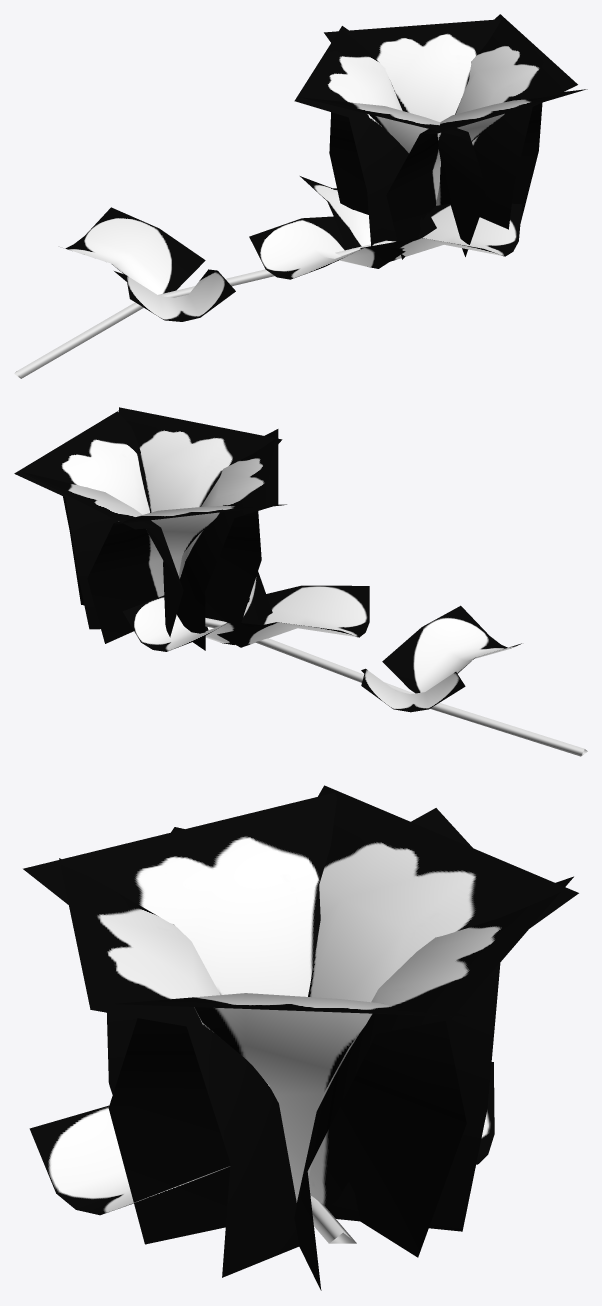
File: florecillas 2.fbx
The picture shows the model from 3 angles, top to bottom: view 1: azimuth 30°, elevation 25°; view 2: azimuth 150°, elevation 25°; view 3: azimuth 270°, elevation 25°; orthographic projection. The views are drawn at different scales.
Visible parts, largest first — view 1: Plane041 (×2), Plane035, Plane034, Plane036, Plane040, Plane038, Plane039, Plane033, Cylinder051, Plane032; view 2: Plane041 (×2), Plane035, Plane036, Plane038, Plane033, Plane034, Plane032, Cylinder051, Plane040, Plane039; view 3: Plane041 (×2), Plane035, Plane036, Plane034, Plane039, Cylinder051, Plane032, Plane040.
Boxes of the visible parts, left/top/right/bottom form: Plane041 (×2): left=294, top=26, right=587, bottom=259; Plane035: left=455, top=14, right=577, bottom=229; Plane034: left=324, top=19, right=501, bottom=121; Plane036: left=300, top=97, right=487, bottom=256; Plane040: left=65, top=207, right=205, bottom=294; Plane038: left=249, top=216, right=405, bottom=279; Plane039: left=360, top=203, right=522, bottom=261; Plane033: left=114, top=269, right=235, bottom=321; Cylinder051: left=14, top=240, right=395, bottom=378; Plane032: left=300, top=176, right=436, bottom=248; Plane041 (×2): left=87, top=407, right=286, bottom=643; Plane035: left=14, top=411, right=149, bottom=629; Plane036: left=177, top=429, right=278, bottom=650; Plane038: left=217, top=585, right=369, bottom=647; Plane033: left=382, top=605, right=521, bottom=693; Plane034: left=22, top=472, right=183, bottom=637; Plane032: left=122, top=595, right=260, bottom=651; Cylinder051: left=205, top=618, right=587, bottom=756; Plane040: left=361, top=668, right=465, bottom=712; Plane039: left=207, top=571, right=272, bottom=629; Plane041 (×2): left=59, top=785, right=578, bottom=1277; Plane035: left=108, top=993, right=470, bottom=1257; Plane036: left=23, top=792, right=336, bottom=1094; Plane034: left=294, top=876, right=573, bottom=1290; Plane039: left=29, top=1105, right=230, bottom=1215; Cylinder051: left=310, top=1196, right=356, bottom=1243; Plane032: left=476, top=1062, right=494, bottom=1164; Plane040: left=411, top=808, right=472, bottom=847.
Bounding box in the file's own units: 43.7 × 20.21 × 15.21.
